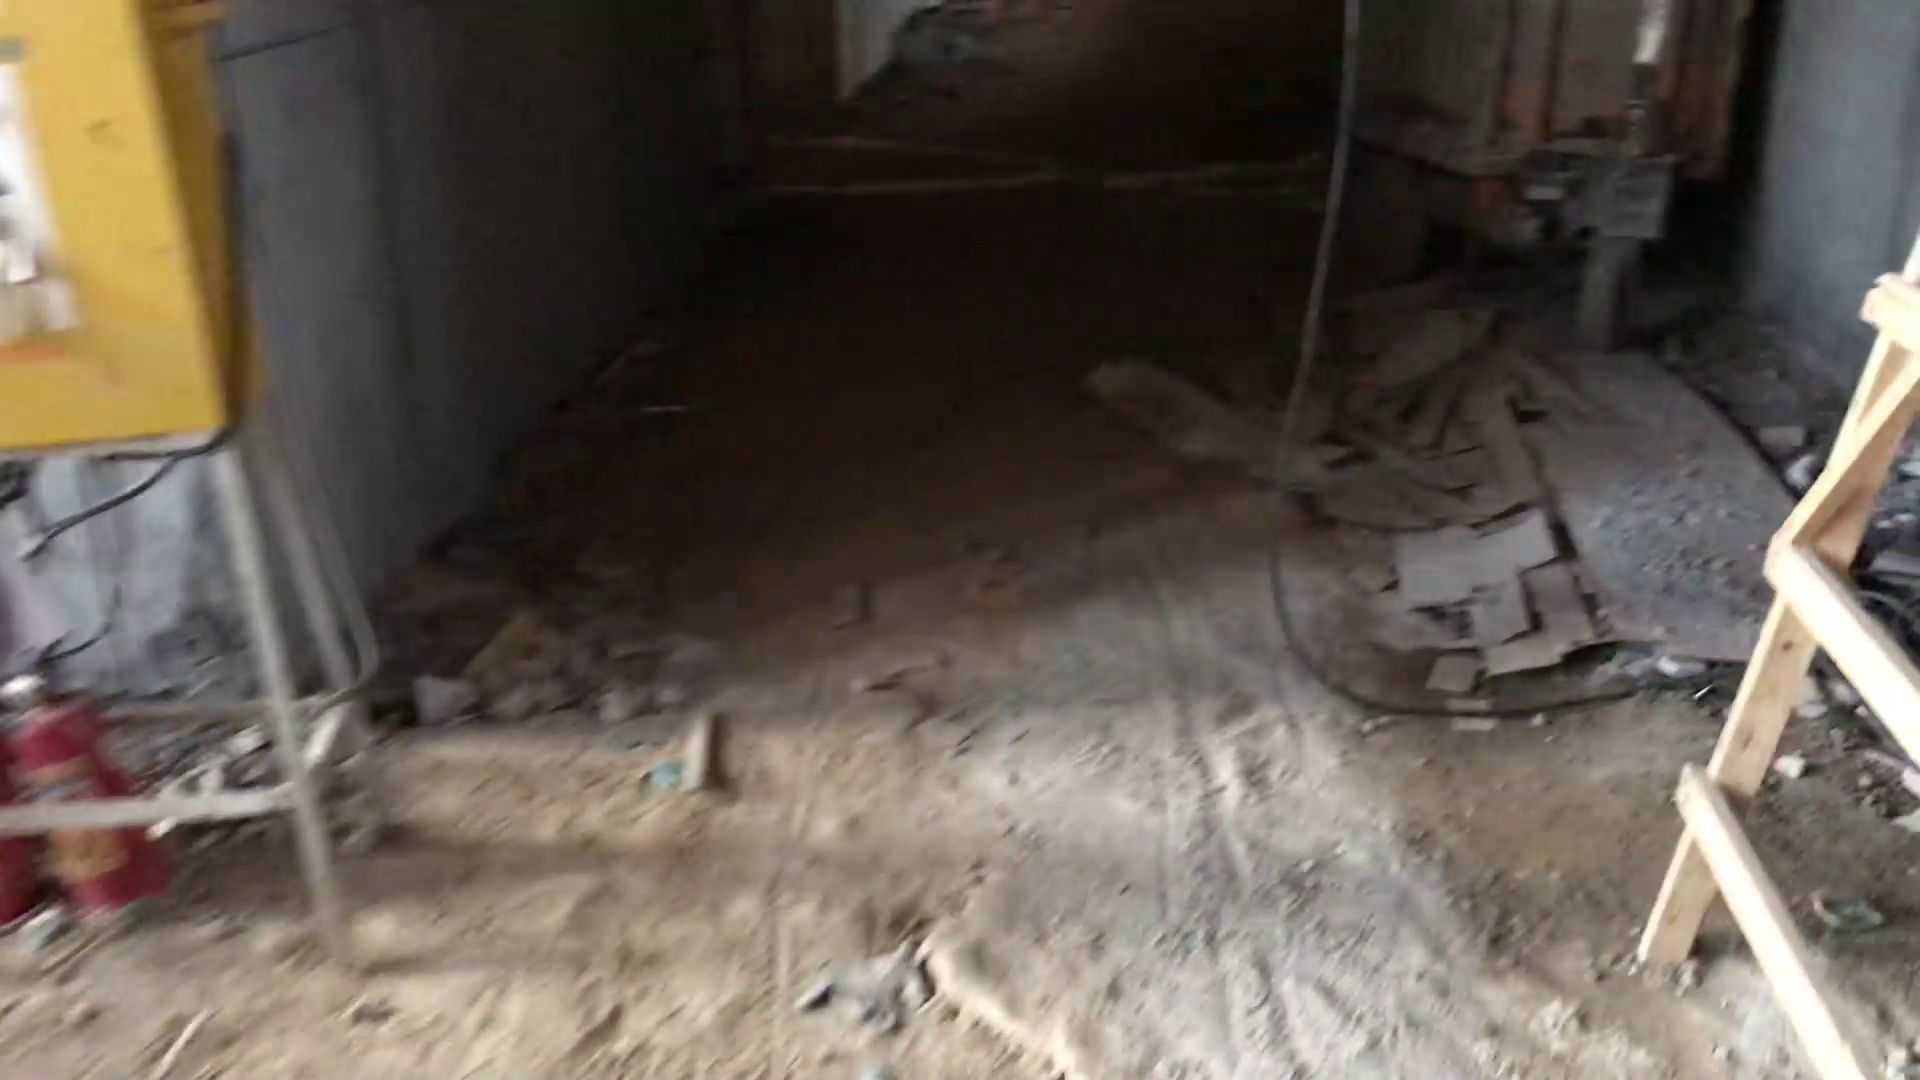ebox: (8, 1, 295, 472)
